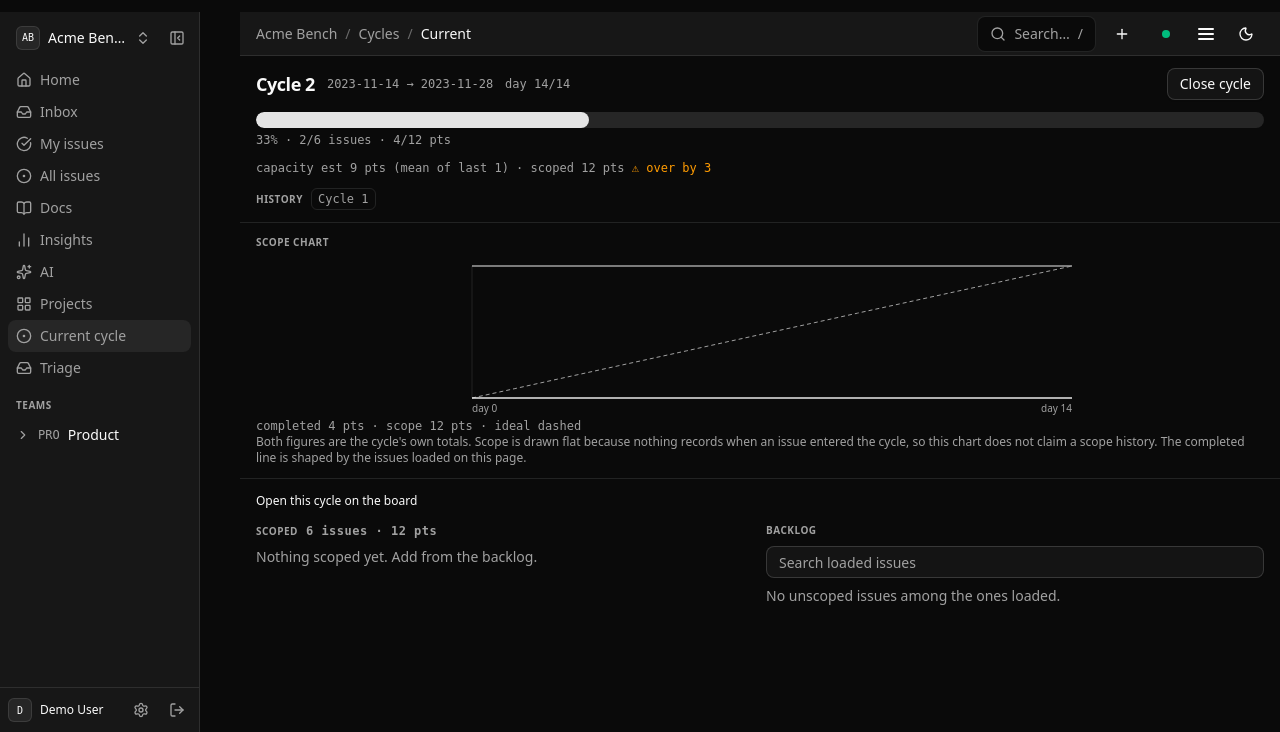
Test: close cycle › freezes a completed cycle: as-of caption, no close control
Click the link "Current cycle": click(100, 336) x1=8 y1=320 x2=191 y2=352
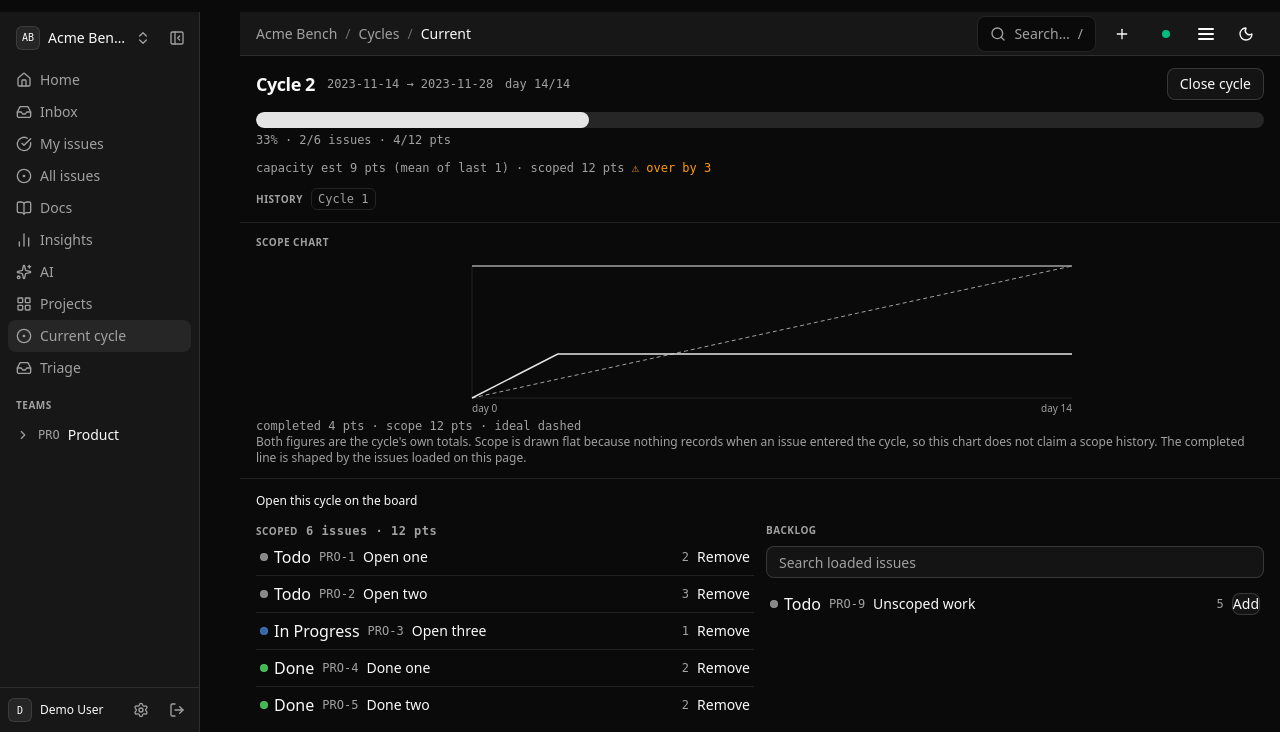
Click the link "Cycle 1": click(343, 199) x1=311 y1=188 x2=376 y2=210
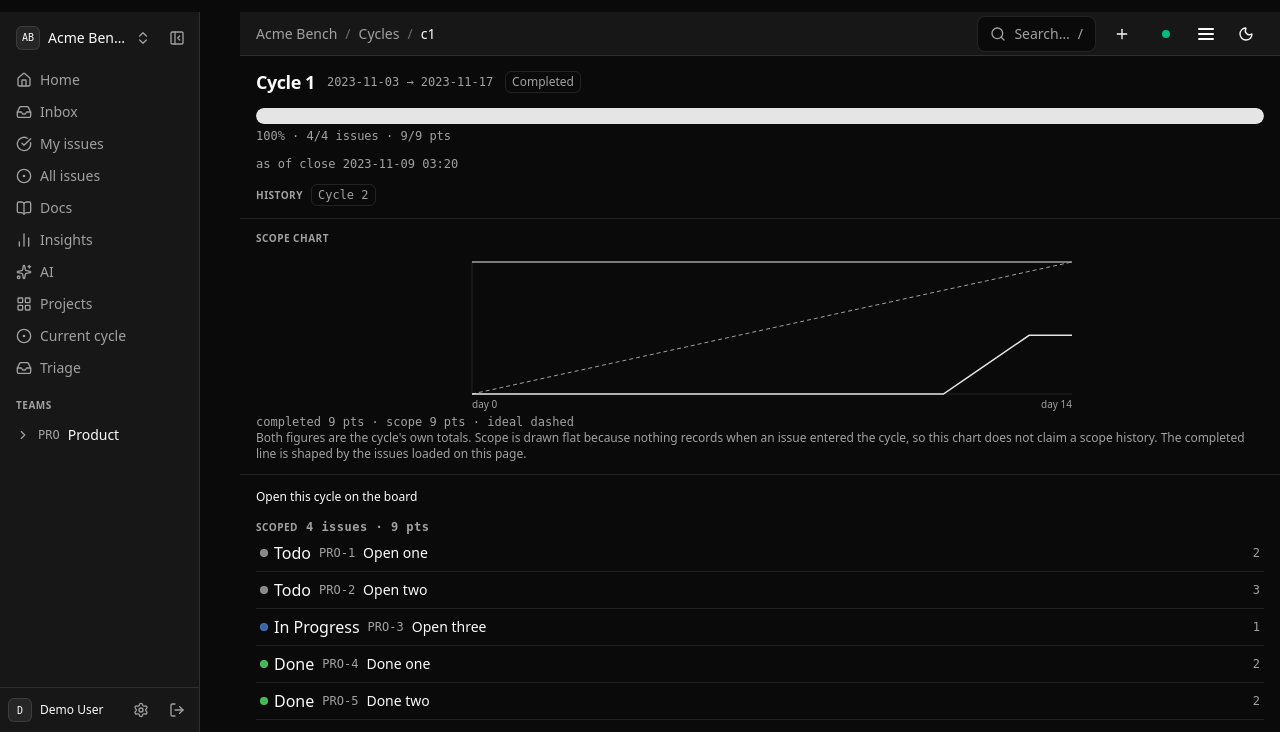
Expected: the text with test id "cy-asof" shows "as of close", x1=256 y1=157 x2=458 y2=171
Expected: the button "Close cycle" is gone
